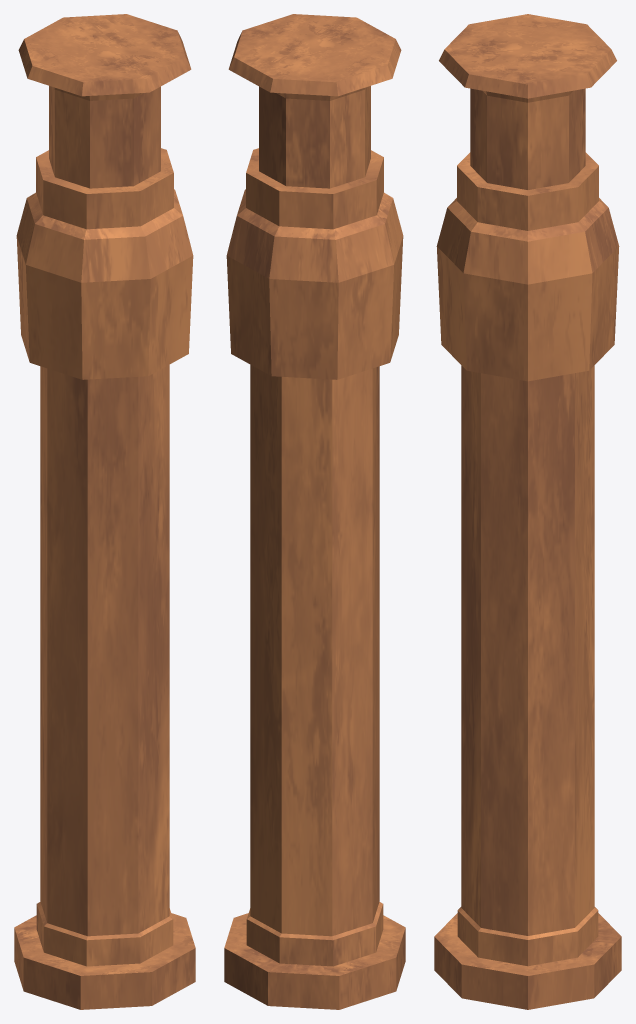
The model's file is column03.fbx.
3 renders of one model, left to right at view 1: azimuth 30°, elevation 25°; view 2: azimuth 150°, elevation 25°; view 3: azimuth 270°, elevation 25°, orthographic.
Parts seen in each view (by area): view 1: pCylinder5; view 2: pCylinder5; view 3: pCylinder5.
Part boxes in pixels (bbox=[...]): pCylinder5: bbox=[14, 14, 195, 1009]; pCylinder5: bbox=[224, 14, 405, 1009]; pCylinder5: bbox=[434, 14, 621, 1009].
Size of the model in its own units: 1.01 by 5.46 by 1.01.
